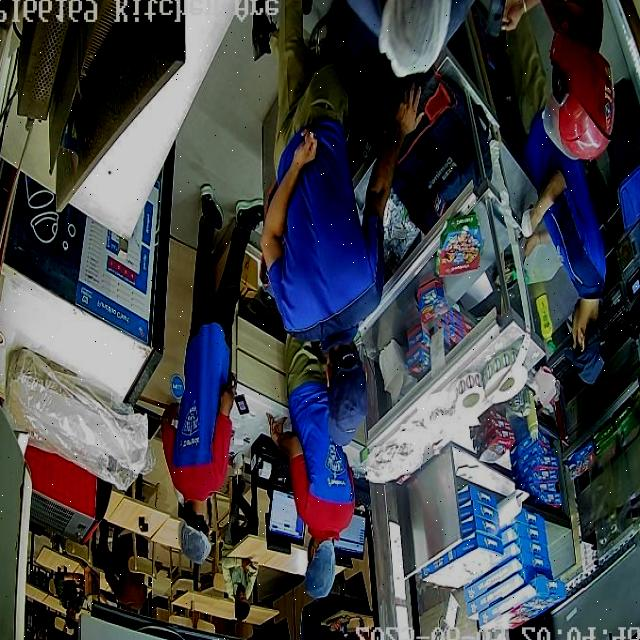helmet: (543, 28, 617, 160)
